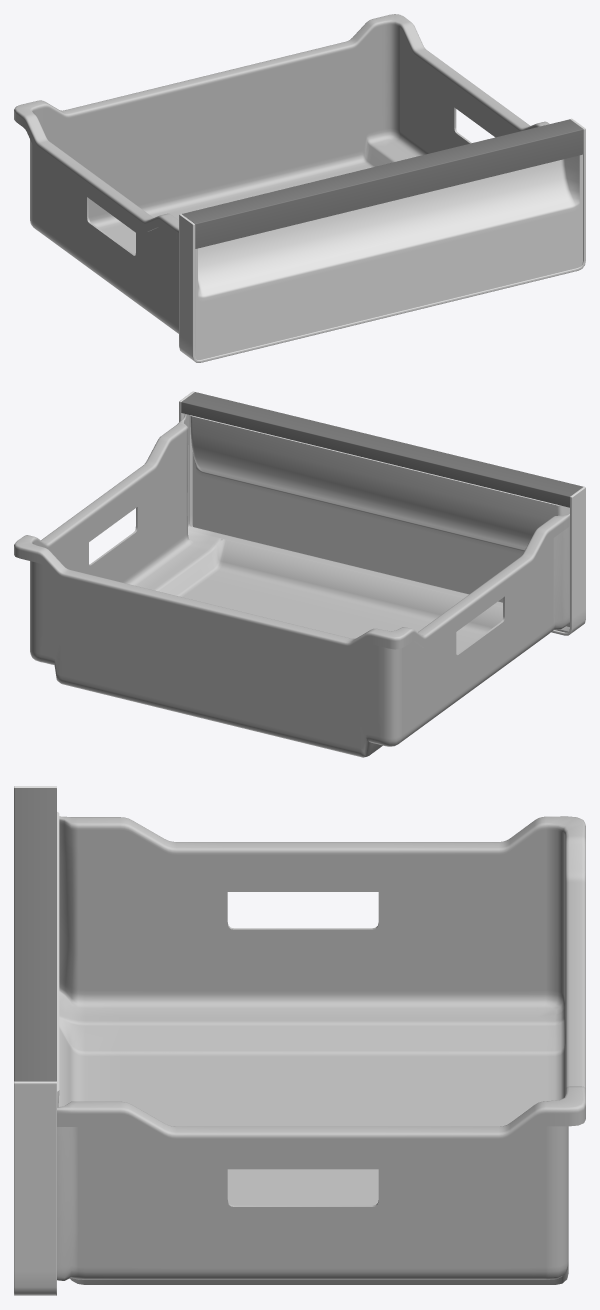
File: SM_Fridge_Drawer_04.dae
The picture shows the model from 3 angles, top to bottom: view 1: azimuth 30°, elevation 25°; view 2: azimuth 150°, elevation 25°; view 3: azimuth 270°, elevation 25°; orthographic projection. The views are drawn at different scales.
Visible parts, largest first — view 1: SM_Fridge_Drawer_04; view 2: SM_Fridge_Drawer_04; view 3: SM_Fridge_Drawer_04.
Boxes of the visible parts, left/top/right/bottom form: SM_Fridge_Drawer_04: left=14, top=14, right=585, bottom=362; SM_Fridge_Drawer_04: left=14, top=391, right=585, bottom=757; SM_Fridge_Drawer_04: left=14, top=786, right=585, bottom=1295.
Bounding box in the file's own units: 0.409 × 0.333 × 0.152.
